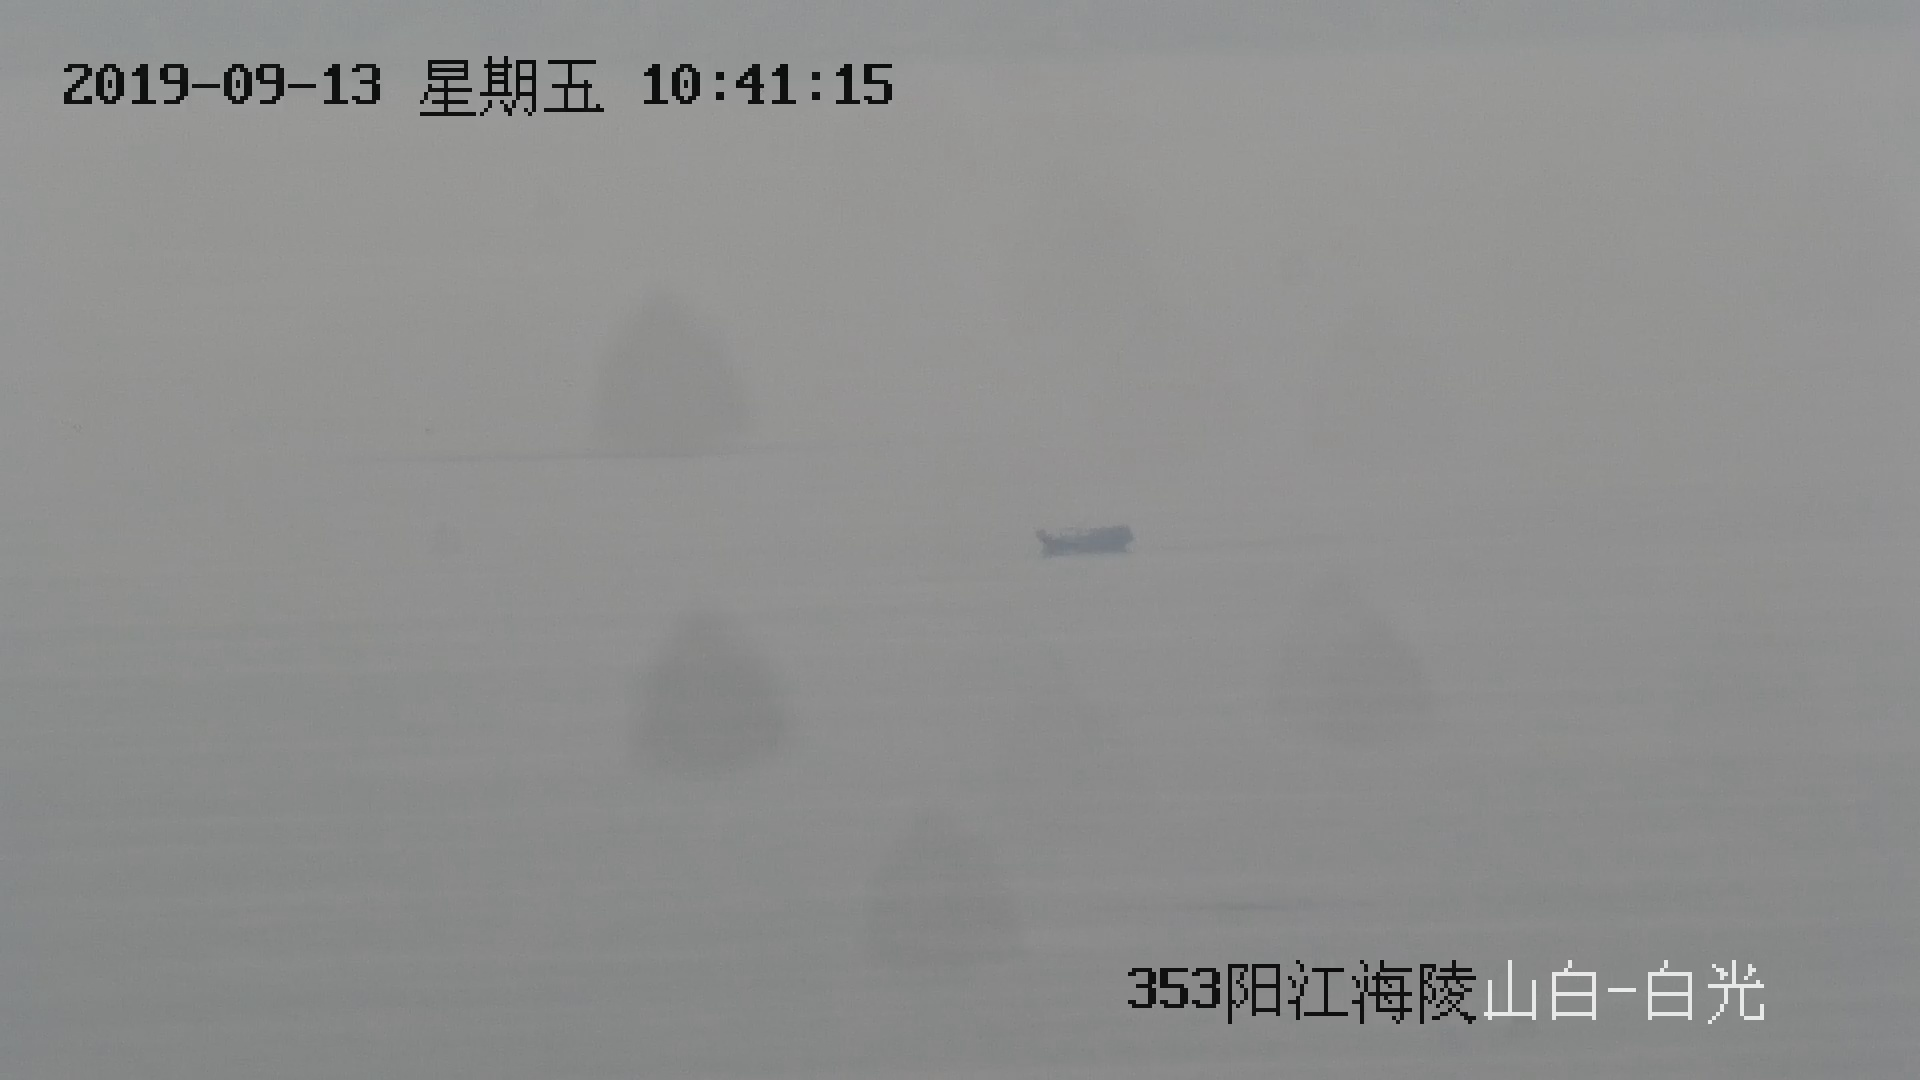ship: (1034, 526, 1134, 556)
